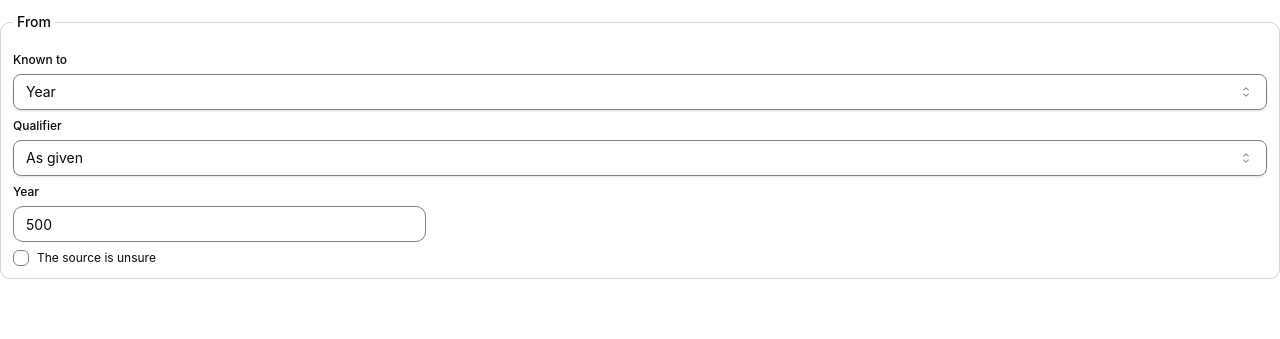
Test: a provenance date offers every qualifier and no era
Click the dropdown named "Qualifier": coordinates (54, 158) [13,140,1267,176]
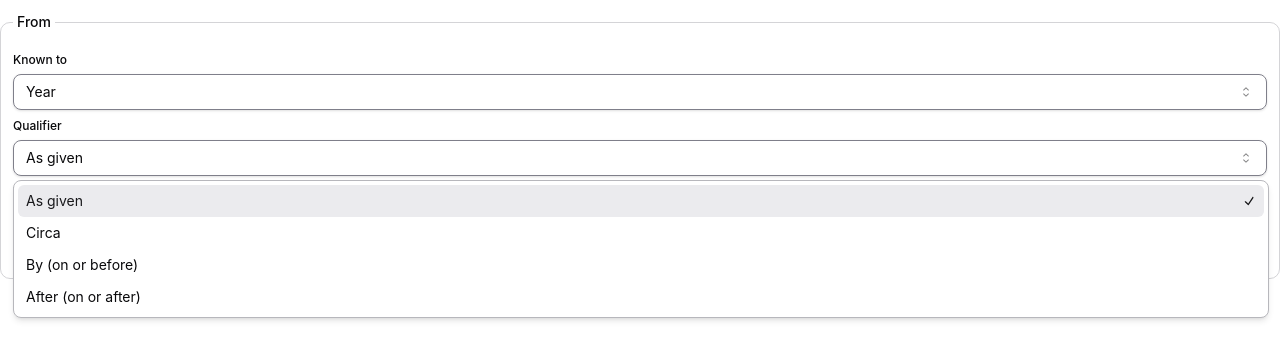
Check: the options read "As given", "Circa", "By (on or before)", "After (on or after)", in this order, box [18,185,1264,217]; [26,224,61,241]; [26,256,138,273]; [26,288,141,305]
